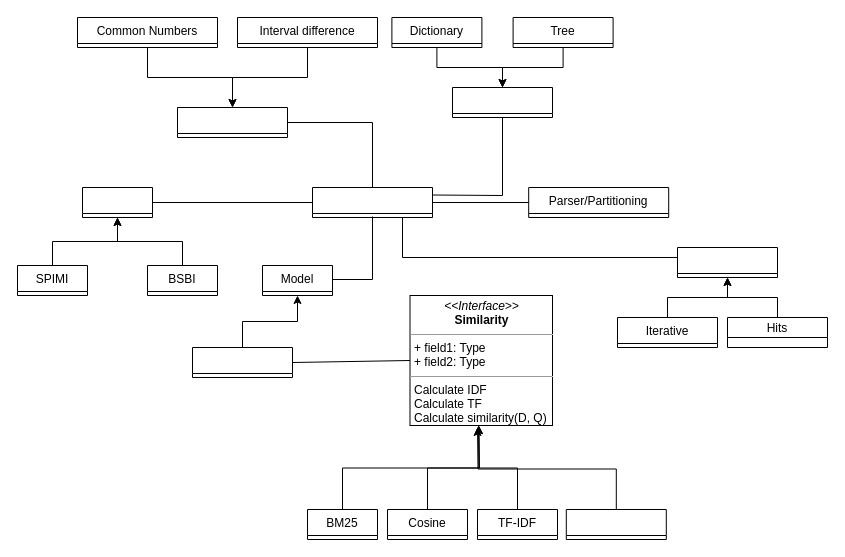
This 845x557 diagram has some shape labels left out. The shapes that lost their labels are listed below. From the top down, each one's centre as x and y in pixels, then its label:
(232,122): Compression
(502,102): Posting List
(117,202): Merge
(372,202): Inverted Index
(727,262): PageRank
(242,362): VSM
(615,524): LSI
